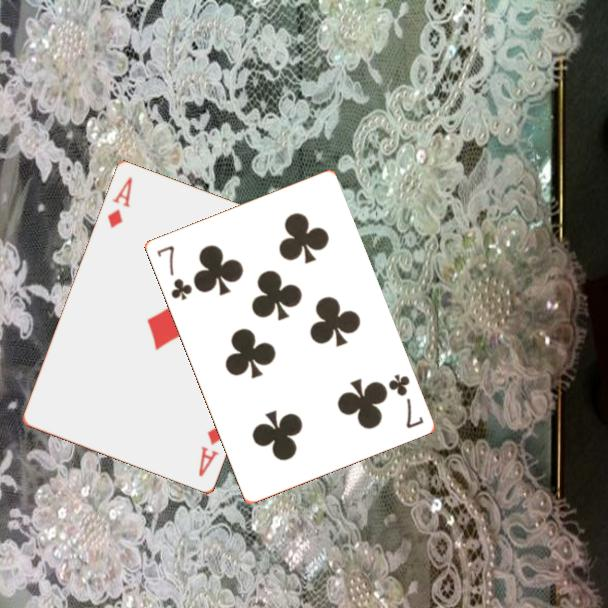c07: (153, 242, 195, 303), (384, 370, 426, 431)
d01: (195, 422, 226, 480), (104, 174, 135, 232)
